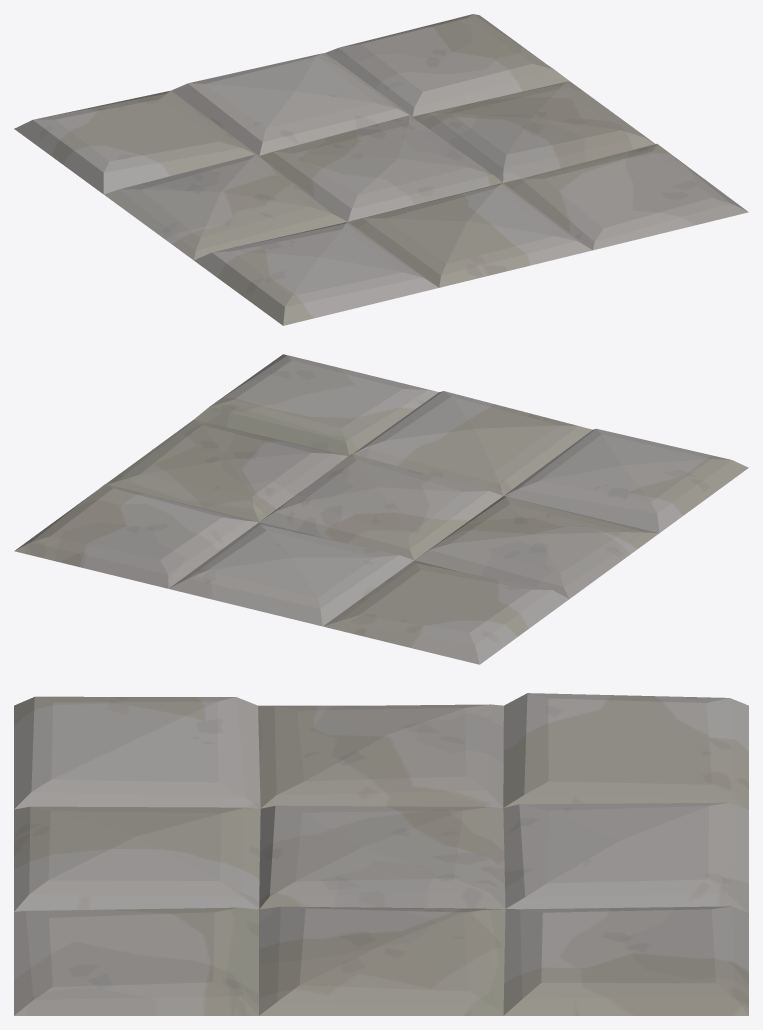
Rendered from SM_Bld_Floor_Padded_01.fbx.
3 renders of one model, top to bottom at view 1: azimuth 30°, elevation 25°; view 2: azimuth 150°, elevation 25°; view 3: azimuth 270°, elevation 25°, orthographic. The views are drawn at different scales.
Visible parts, largest first — view 1: SM_Bld_Floor_Padded_01; view 2: SM_Bld_Floor_Padded_01; view 3: SM_Bld_Floor_Padded_01.
Part boxes in pixels (x1,y1,x2,y2): SM_Bld_Floor_Padded_01: (14, 14, 748, 325); SM_Bld_Floor_Padded_01: (14, 354, 748, 664); SM_Bld_Floor_Padded_01: (14, 693, 748, 1015).
Size of the model in its own units: 250 by 8.19 by 250.
